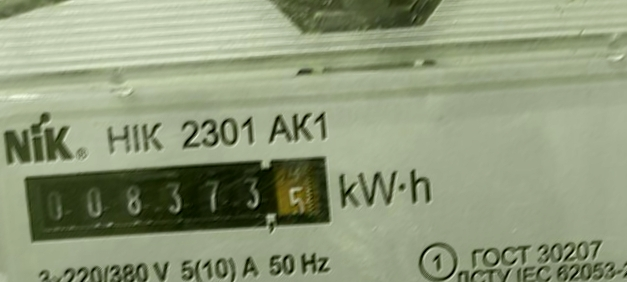0: (44, 186, 66, 223), (84, 182, 105, 219)
3: (240, 173, 265, 211), (163, 177, 186, 216)
4: (285, 162, 304, 183)
5: (287, 183, 308, 214)
7: (202, 174, 223, 214)
8: (123, 180, 146, 217)
screen: (19, 148, 340, 254)
